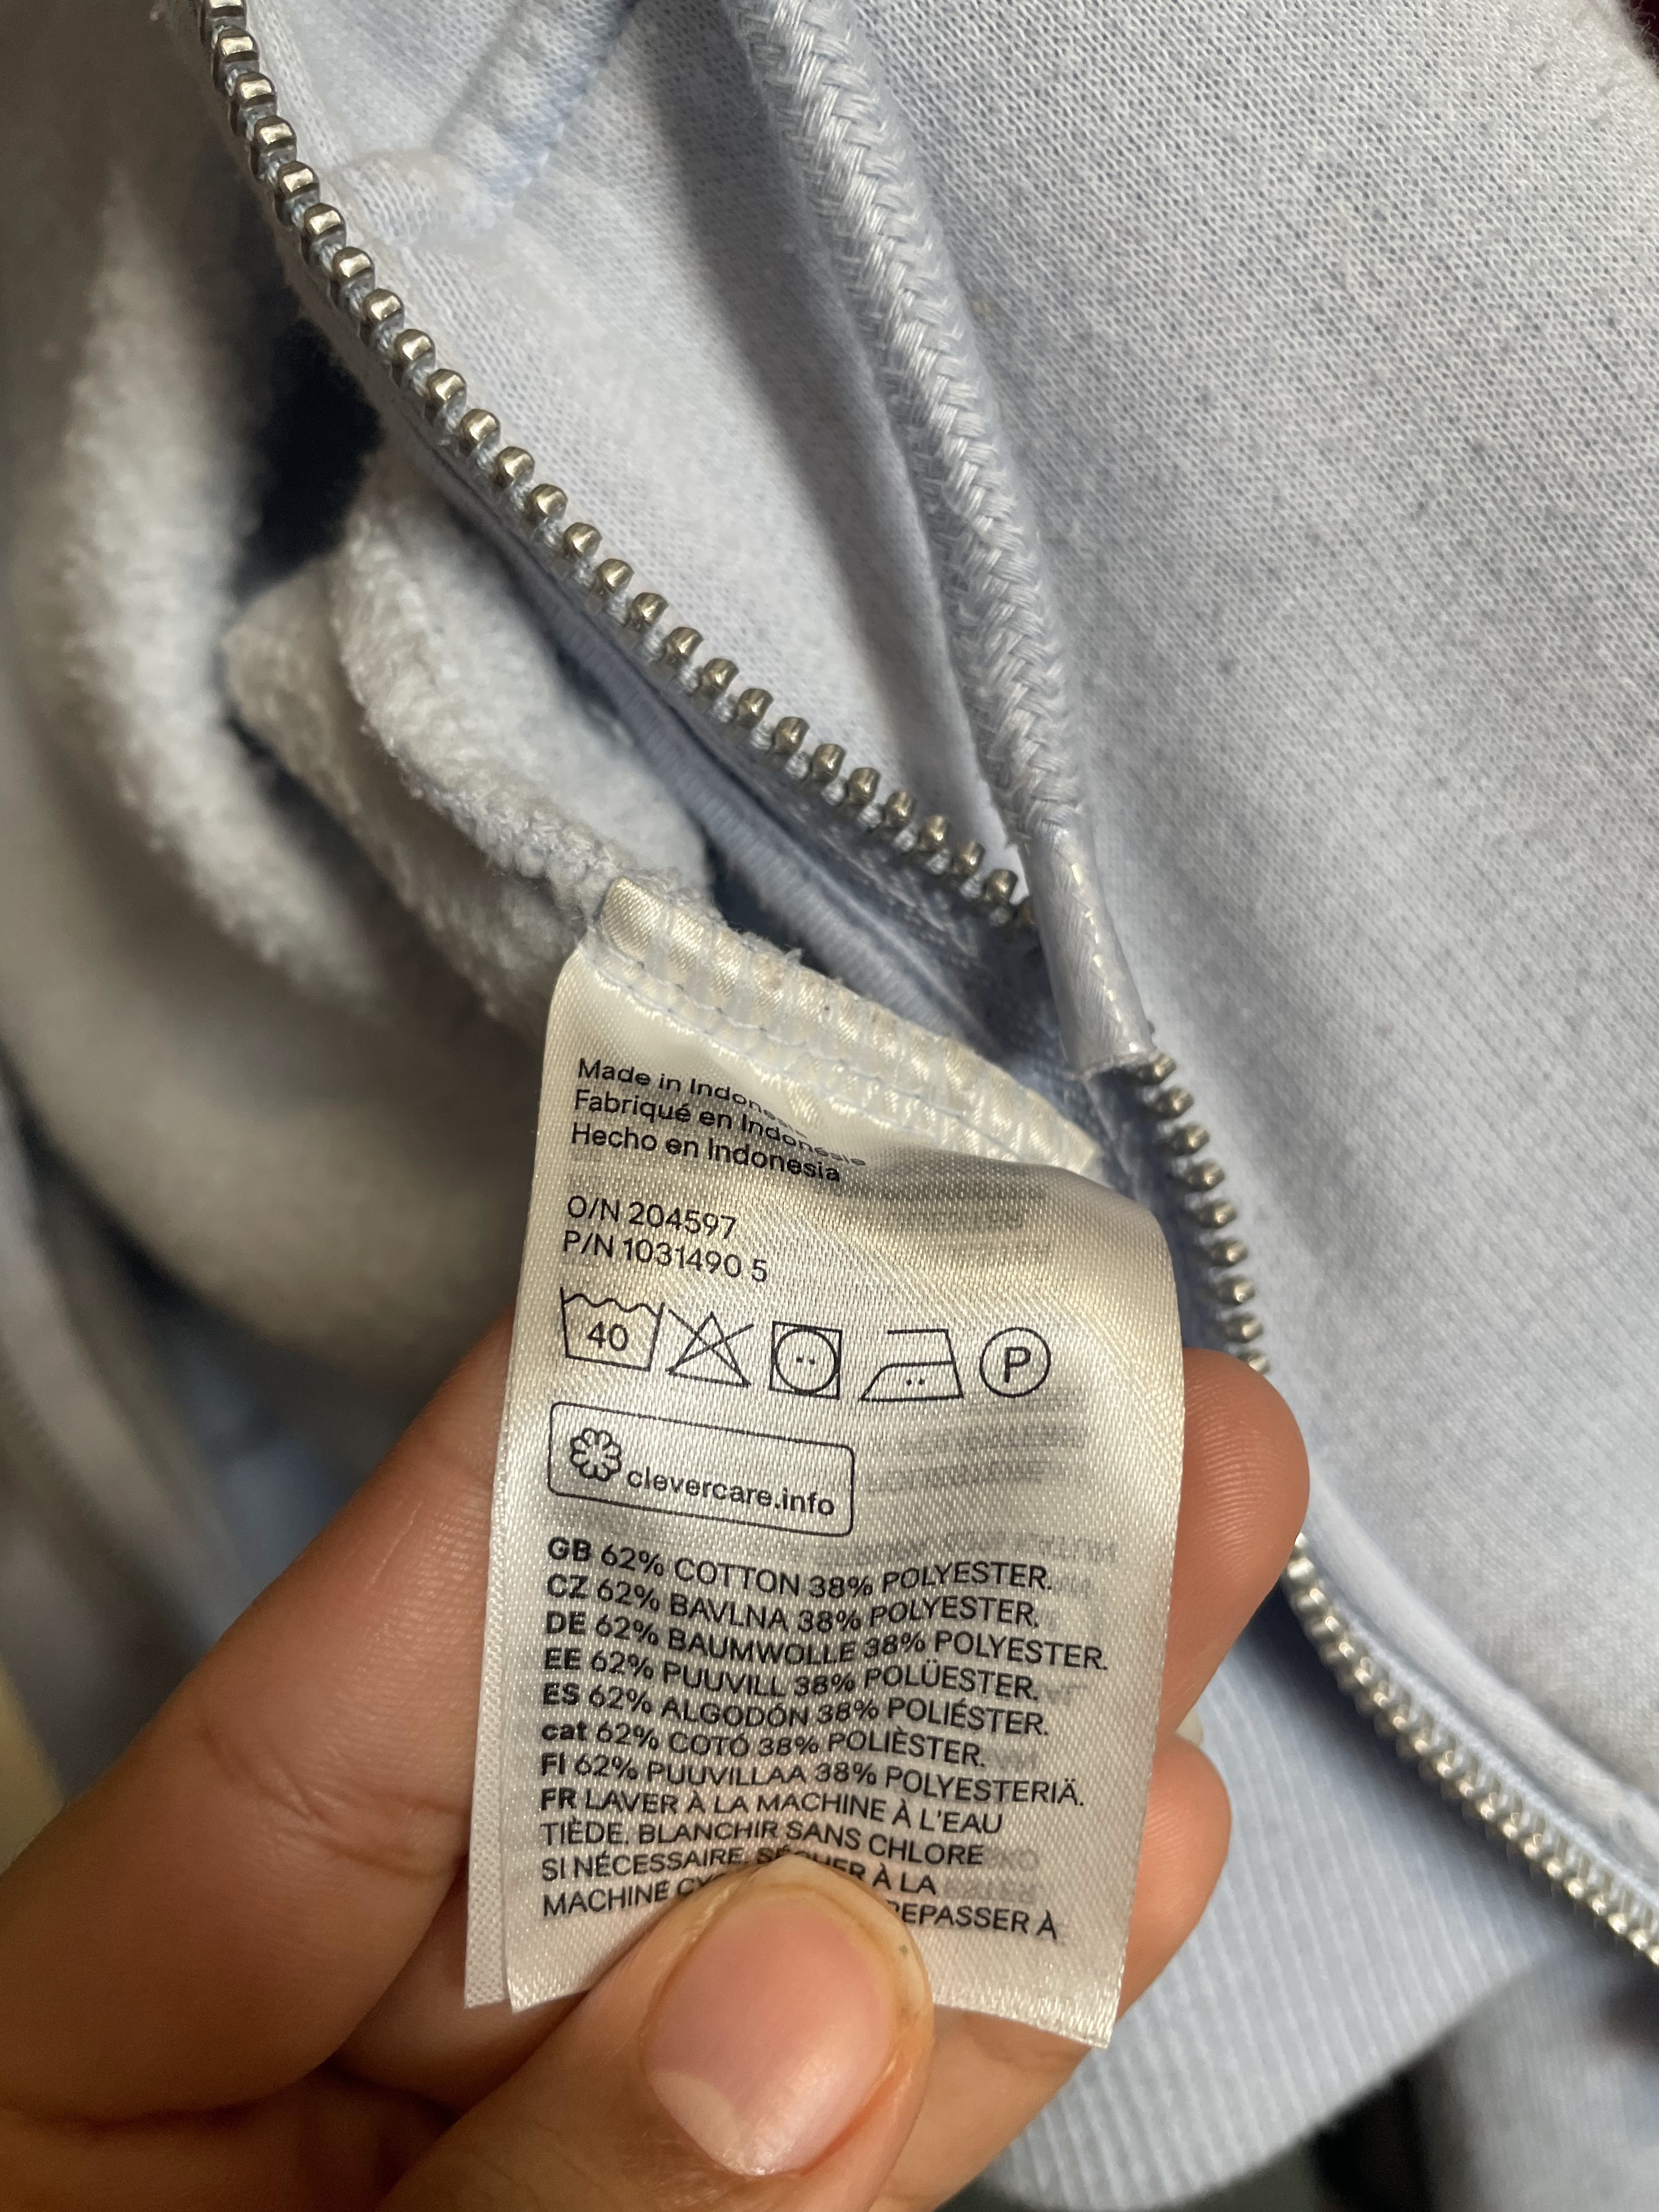do not bleach: (669, 1285, 755, 1407)
dry clean: (979, 1296, 1065, 1421)
iron medium temp: (854, 1306, 978, 1423)
tumble dry medium temp: (755, 1296, 859, 1418)
wash at or below 40: (545, 1280, 681, 1374)
